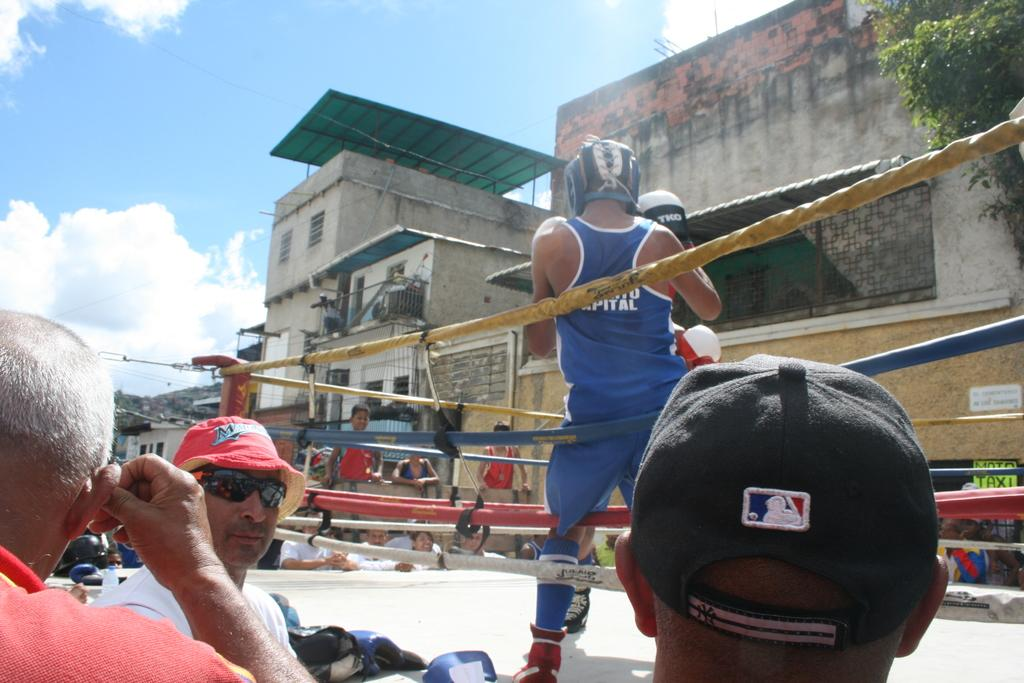Hat: (623, 347, 937, 651), (169, 414, 303, 525)
